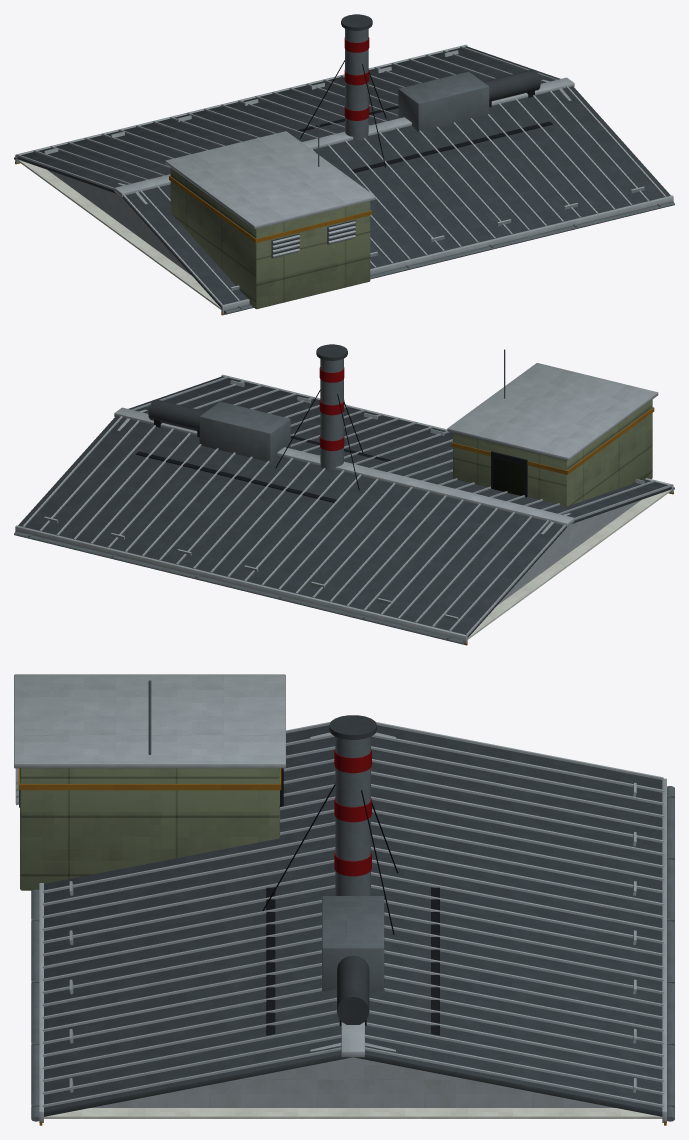
The model's file is fac_infra_roof.glb.
3 renders of one model, top to bottom at view 1: azimuth 30°, elevation 25°; view 2: azimuth 150°, elevation 25°; view 3: azimuth 270°, elevation 25°, orthographic. The views are drawn at different scales.
Visible parts, largest first — view 1: FAC_INFRA_ROOF; view 2: FAC_INFRA_ROOF; view 3: FAC_INFRA_ROOF.
Boxes of the visible parts, left/top/right/bottom form: FAC_INFRA_ROOF: left=14, top=14, right=674, bottom=315; FAC_INFRA_ROOF: left=14, top=344, right=674, bottom=645; FAC_INFRA_ROOF: left=14, top=674, right=674, bottom=1125.
Size of the model in its own units: 14.6 by 4.94 by 12.2.
12 materials, 12 textured.
